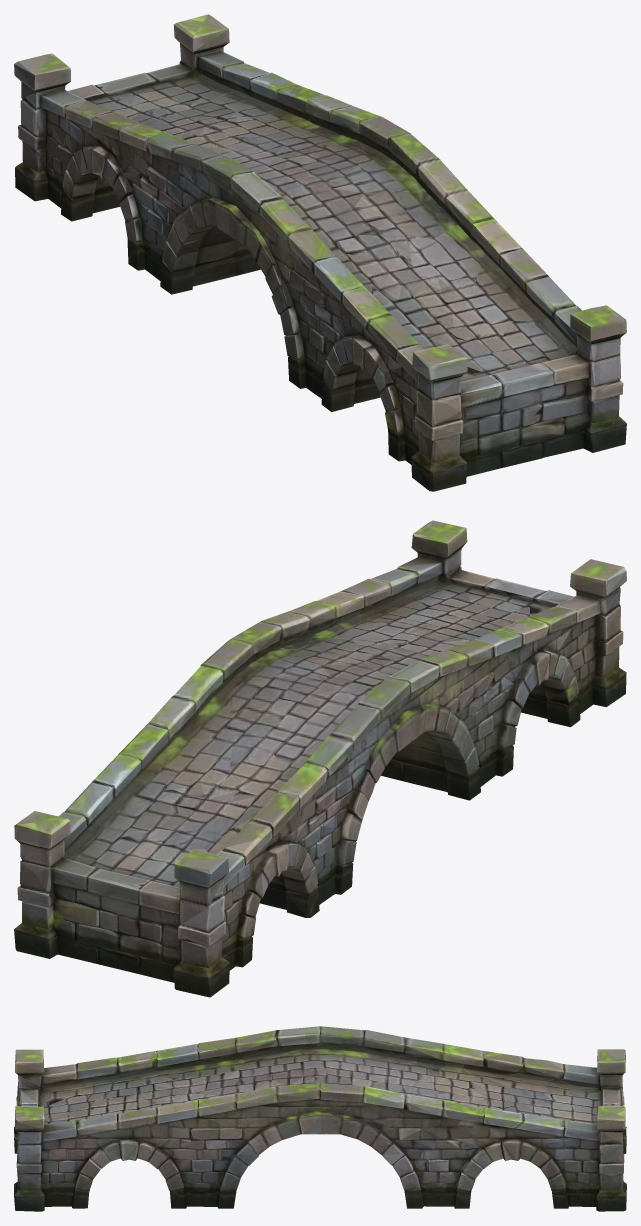
Rendered from oc_kingsbridge.glb.
3 views of the same model, one above another, from view 1: azimuth 30°, elevation 25°; view 2: azimuth 150°, elevation 25°; view 3: azimuth 270°, elevation 25° (orthographic). The views are drawn at different scales.
Visible parts, largest first — view 1: M_WPJ_Kingsbridge; view 2: M_WPJ_Kingsbridge; view 3: M_WPJ_Kingsbridge.
Boxes of the visible parts, <box> form: M_WPJ_Kingsbridge: <box>14,14,626,491</box>; M_WPJ_Kingsbridge: <box>14,520,626,997</box>; M_WPJ_Kingsbridge: <box>14,1026,626,1211</box>.
Bounding box in the file's own units: 8.77 × 6.85 × 32.
Materials: 1 (1 with a texture image).
